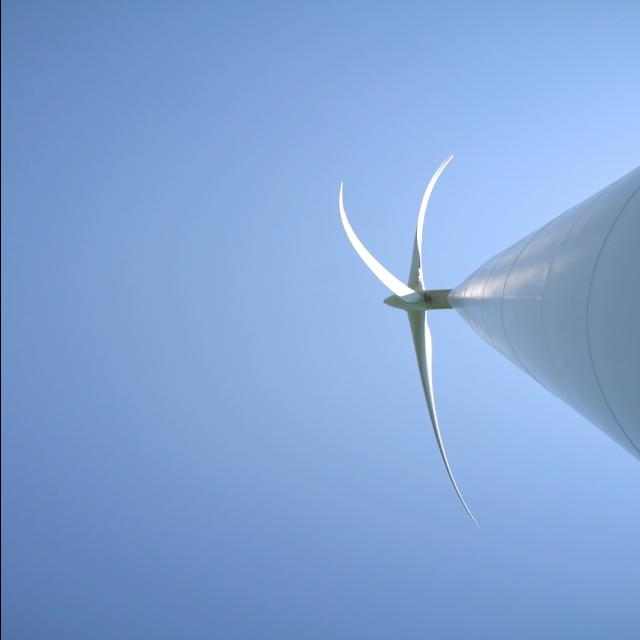blade 1: (327, 178, 383, 293)
blade 2: (399, 336, 478, 526)
blade 3: (398, 88, 452, 278)
